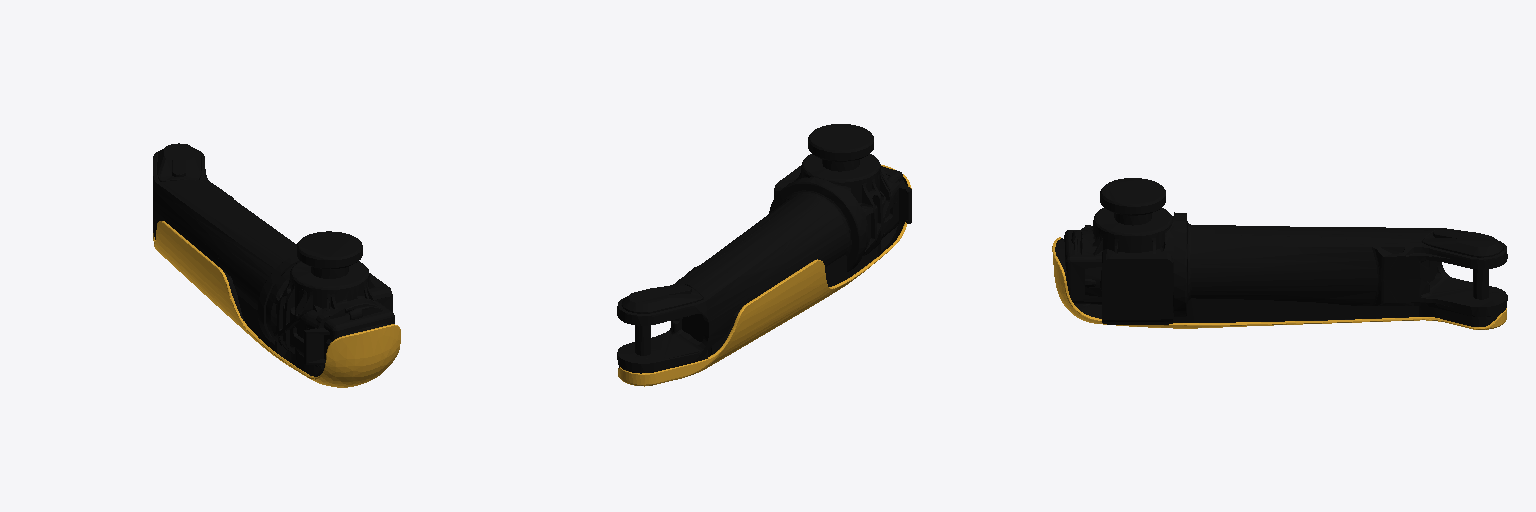
The model's file is front_right_upper_leg.obj.
3 views of the same model, side by side, from view 1: azimuth 30°, elevation 25°; view 2: azimuth 150°, elevation 25°; view 3: azimuth 270°, elevation 25° (orthographic).
Parts seen in each view (by area): view 1: _2-042137-001-A00_TOP_LEVEL_DEFEATURED_-_NOT_FOR_PRODUCTION_003; view 2: _2-042137-001-A00_TOP_LEVEL_DEFEATURED_-_NOT_FOR_PRODUCTION_003; view 3: _2-042137-001-A00_TOP_LEVEL_DEFEATURED_-_NOT_FOR_PRODUCTION_003.
Boxes of the visible parts, <box> form: _2-042137-001-A00_TOP_LEVEL_DEFEATURED_-_NOT_FOR_PRODUCTION_003: <box>153,143,400,387</box>; _2-042137-001-A00_TOP_LEVEL_DEFEATURED_-_NOT_FOR_PRODUCTION_003: <box>617,124,911,386</box>; _2-042137-001-A00_TOP_LEVEL_DEFEATURED_-_NOT_FOR_PRODUCTION_003: <box>1052,178,1507,329</box>.
Bounding box in the file's own units: 0.1011 × 0.1323 × 0.4184.